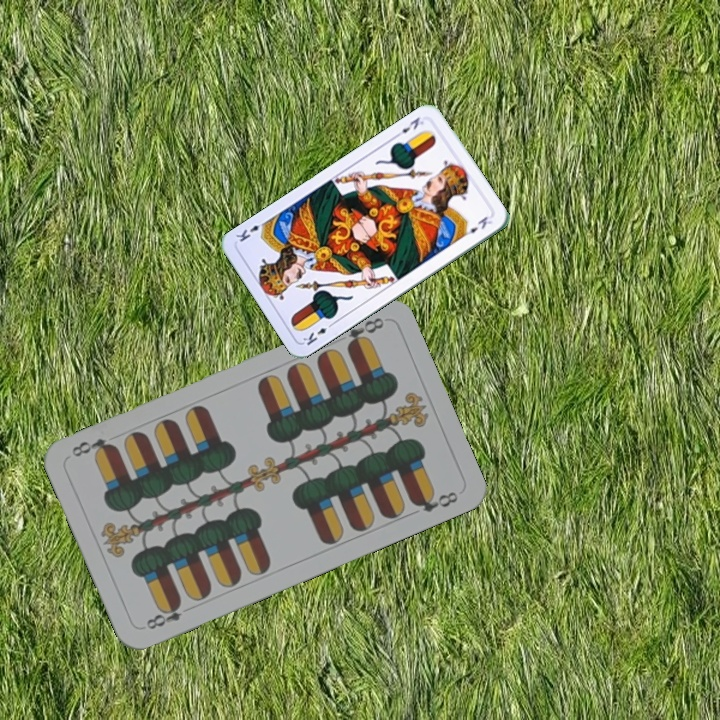E8: (342, 313, 387, 352), (142, 597, 185, 632)
EK: (299, 318, 336, 348), (391, 113, 426, 140)
